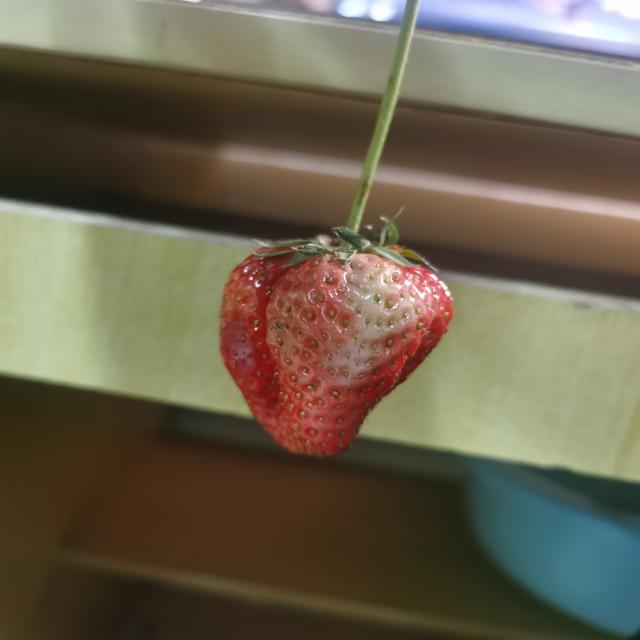stem: (341, 133, 386, 242)
strawberry: (219, 237, 454, 457)
